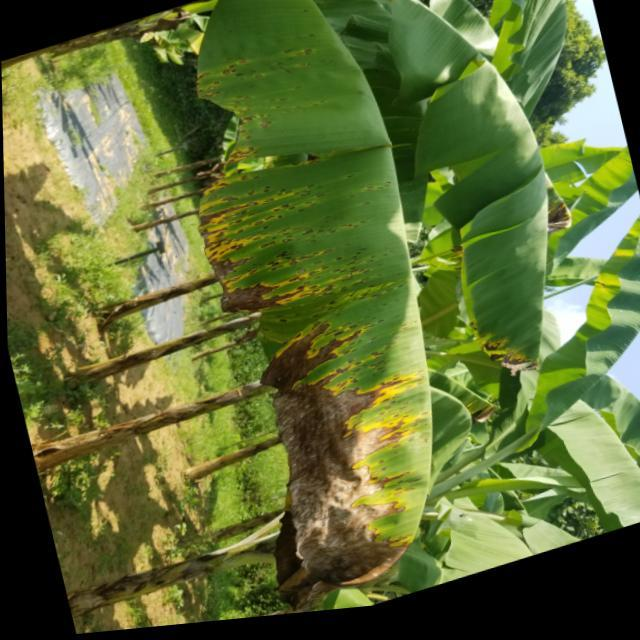Early_rust: (147, 0, 597, 596)
